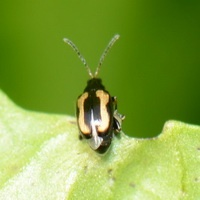insect: (63, 34, 124, 152)
